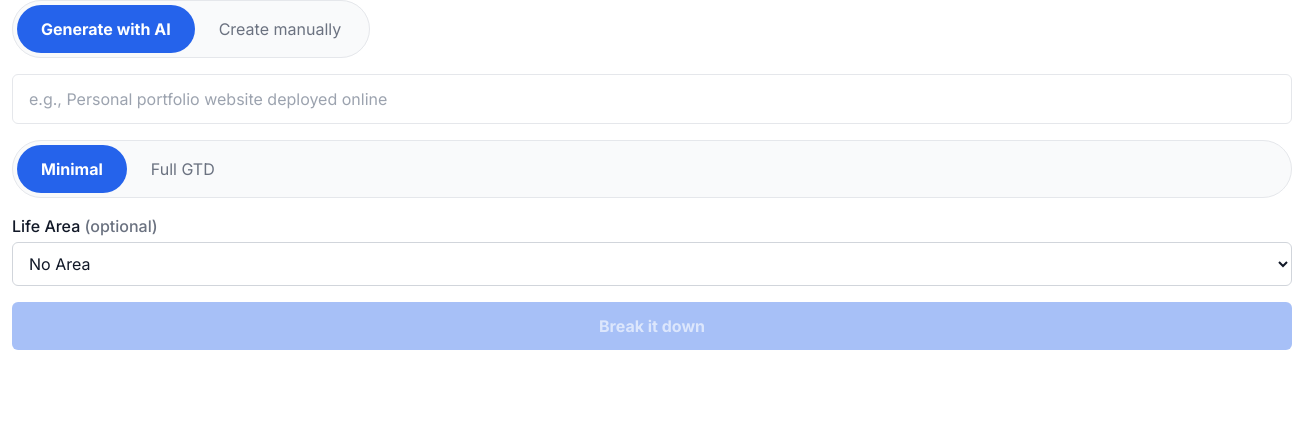
Scenario: NewProjectClient › uses the timeout fallback copy on a 504 with no error body
Type "Build a website" into the field.
click(652, 99); type("Build a website")  # box [12,74,1292,124]
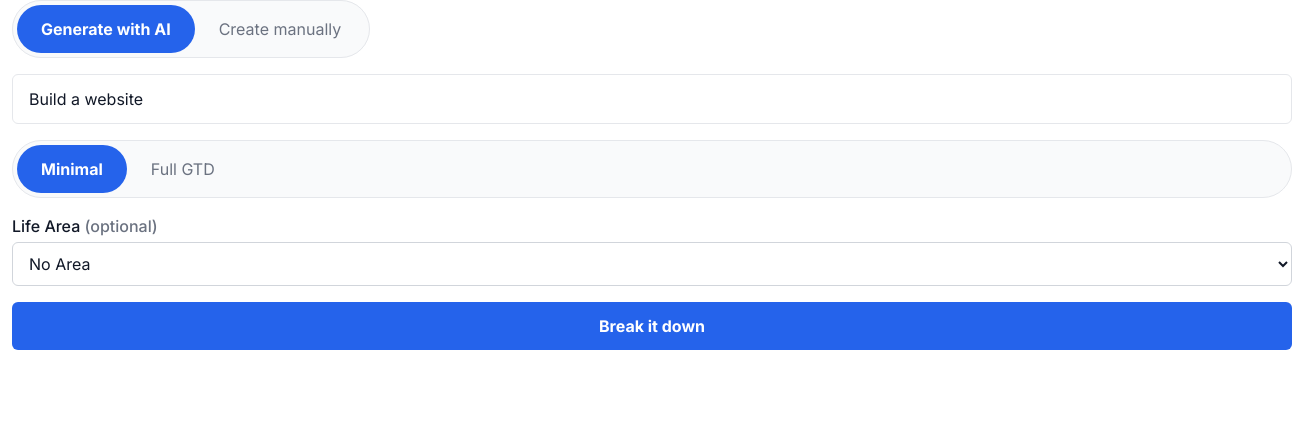
Click the button "Break it down".
click(652, 326)  # box [12,302,1292,350]
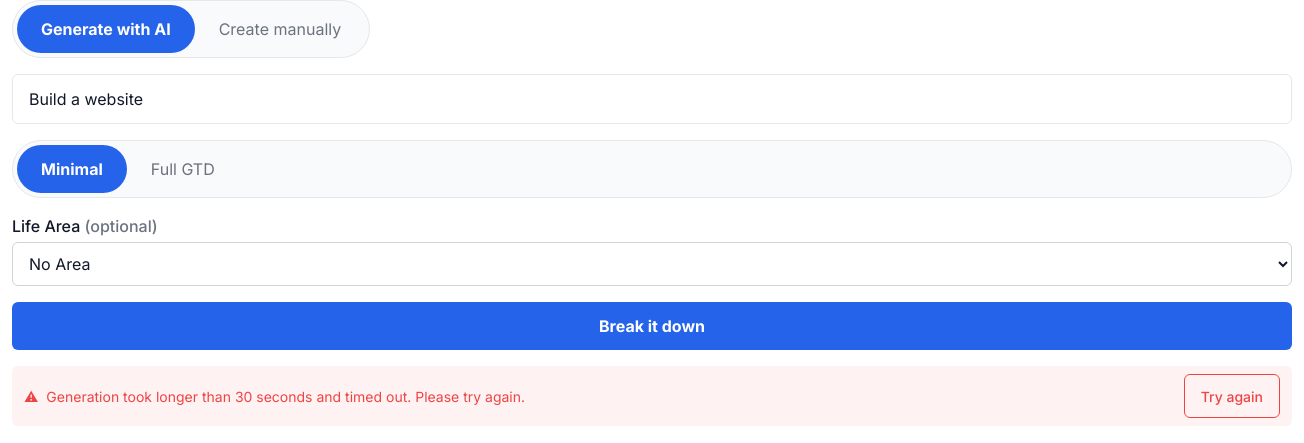
Check: the message shows "timed out", box [46,388,525,404]
